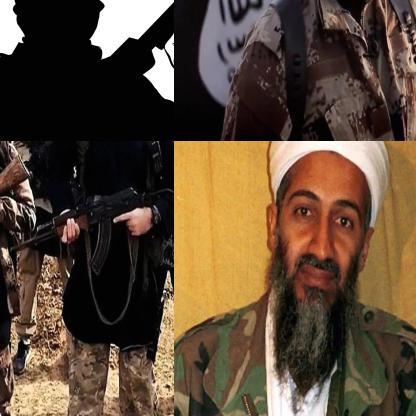rifle: (9, 188, 173, 276), (109, 0, 173, 82), (0, 153, 34, 284)
